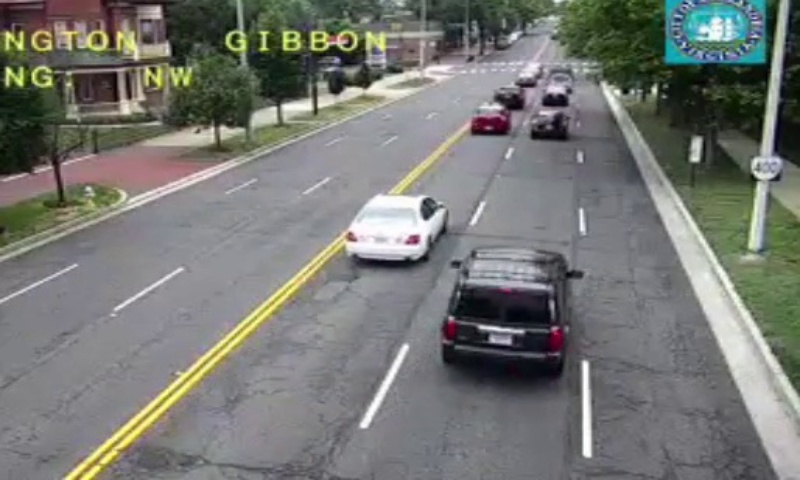car: (443, 248, 568, 371), (343, 194, 448, 259), (529, 112, 568, 138), (471, 108, 508, 134), (493, 86, 524, 109)
